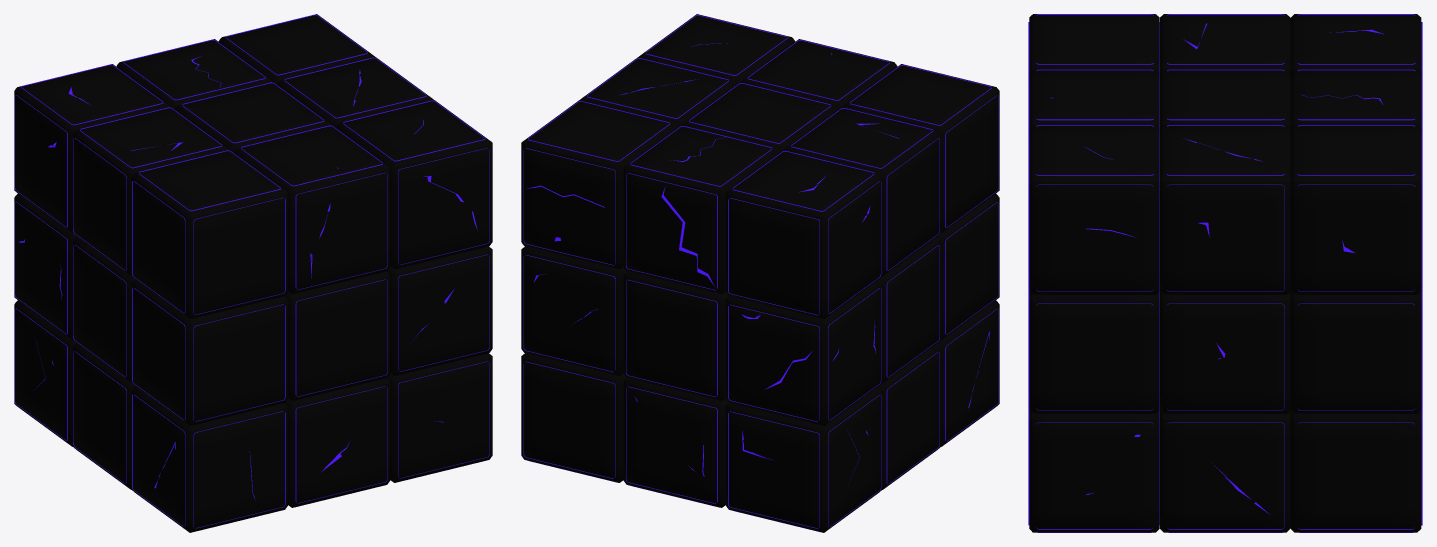
The picture shows the model from 3 angles, left to right: view 1: azimuth 30°, elevation 25°; view 2: azimuth 150°, elevation 25°; view 3: azimuth 270°, elevation 25°; orthographic projection. The views are drawn at different scales.
Visible parts, largest first — view 1: Plane.041, Plane.040, Plane.042, Plane.032, Plane.050, Plane.038, Plane.044, Plane.033, Plane.049, Plane.051, Plane.031, Plane.043 (+7 smaller); view 2: Plane.044, Plane.045, Plane.043, Plane.035, Plane.047, Plane.038, Plane.041, Plane.036, Plane.046, Plane.048, Plane.034, Plane.040 (+7 smaller); view 3: Plane.035, Plane.032, Plane.029, Plane.036, Plane.034, Plane.031, Plane.033, Plane.028, Plane.030, Plane.047, Plane.044, Plane.041 (+3 smaller).
Part boxes in pixels (box(x1,y1,x2,y2)): Plane.041: box(131, 150, 288, 319); Plane.040: box(131, 279, 288, 425); Plane.042: box(131, 386, 288, 532); Plane.032: box(336, 100, 492, 269); Plane.050: box(234, 125, 390, 294); Plane.038: box(73, 107, 229, 276); Plane.044: box(14, 64, 170, 233); Plane.033: box(387, 353, 492, 482); Plane.049: box(285, 378, 390, 507); Plane.051: box(285, 271, 390, 401); Plane.031: box(387, 246, 492, 376); Plane.043: box(14, 194, 76, 340); Plane.044: box(725, 150, 882, 319); Plane.045: box(725, 386, 882, 532); Plane.043: box(725, 279, 882, 425); Plane.035: box(521, 100, 677, 269); Plane.047: box(623, 125, 779, 294); Plane.038: box(784, 107, 940, 276); Plane.041: box(843, 64, 999, 233); Plane.036: box(521, 353, 626, 482); Plane.046: box(623, 378, 728, 507); Plane.048: box(623, 271, 728, 401); Plane.034: box(521, 246, 626, 376); Plane.040: box(937, 194, 999, 340); Plane.035: box(1290, 125, 1422, 294); Plane.032: box(1028, 125, 1159, 294); Plane.029: box(1159, 125, 1290, 294); Plane.036: box(1290, 406, 1422, 532); Plane.034: box(1290, 287, 1422, 413); Plane.031: box(1028, 287, 1159, 413); Plane.033: box(1028, 406, 1159, 532); Plane.028: box(1159, 407, 1290, 532); Plane.030: box(1159, 288, 1290, 413); Plane.047: box(1290, 69, 1422, 133); Plane.044: box(1290, 14, 1422, 77); Plane.041: box(1028, 14, 1159, 77).
Size of the model in its own units: 1.44 by 1.44 by 1.44.
